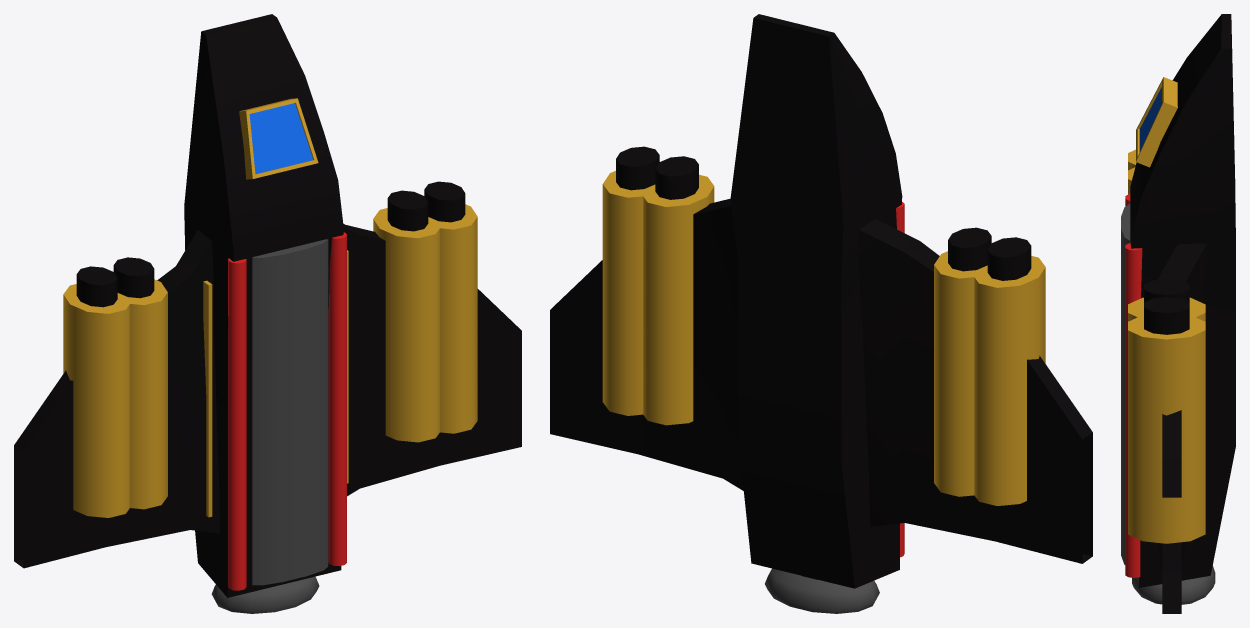
Rendered from Rocketnew.fbx.
The picture shows the model from 3 angles, left to right: view 1: azimuth 30°, elevation 25°; view 2: azimuth 150°, elevation 25°; view 3: azimuth 270°, elevation 25°; orthographic projection. The views are drawn at different scales.
Parts seen in each view (by area): view 1: RocketBody; view 2: RocketBody; view 3: RocketBody.
Part boxes in pixels (bbox=[...]): RocketBody: bbox=[14, 14, 521, 613]; RocketBody: bbox=[550, 14, 1092, 613]; RocketBody: bbox=[1121, 14, 1235, 613].
Bounding box in the file's own units: 290 × 307 × 57.95.
